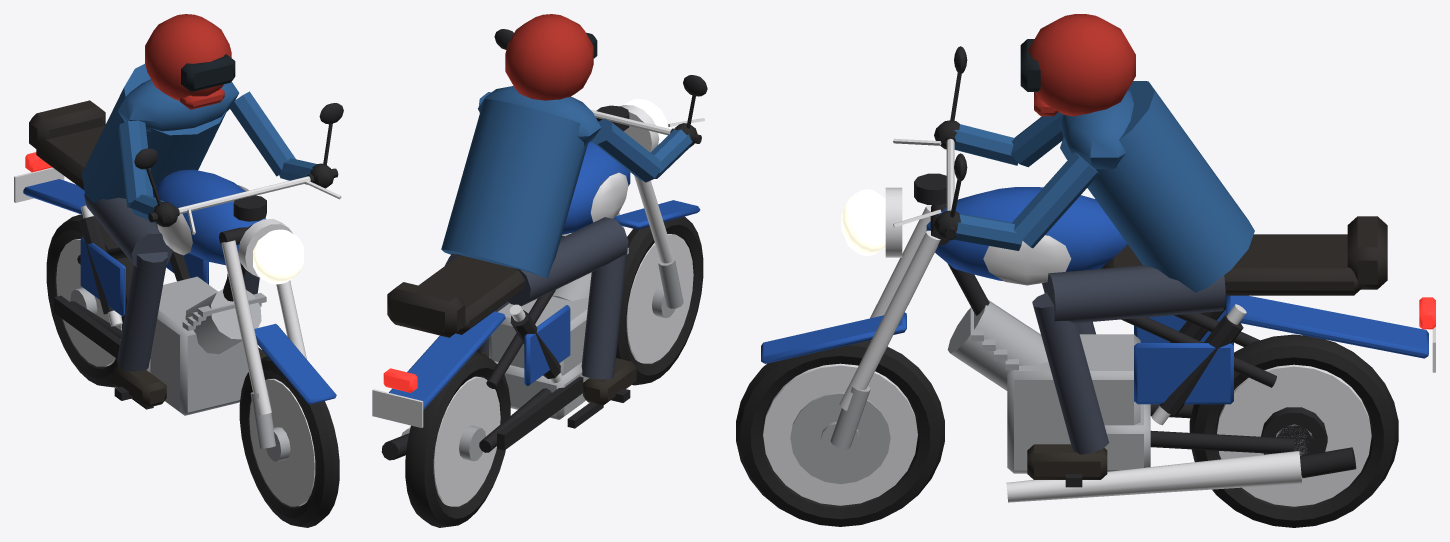
The model's file is motorcycle.glb.
3 renders of one model, left to right at view 1: azimuth 30°, elevation 25°; view 2: azimuth 150°, elevation 25°; view 3: azimuth 270°, elevation 25°, orthographic. The views are drawn at different scales.
Parts seen in each view (by area): view 1: body.004, rider_torso, fork, wheel_front, rider_legs, rider_head, wheel_rear; view 2: body.004, rider_torso, wheel_rear, rider_legs, wheel_front, fork, rider_head; view 3: body.004, rider_torso, wheel_front, wheel_rear, rider_legs, fork, rider_head.
Boxes of the visible parts, x1=… form: body.004: x1=14, y1=100, x2=266, y2=415; rider_torso: x1=82, y1=64, x2=333, y2=227; fork: x1=134, y1=103, x2=343, y2=448; wheel_front: x1=239, y1=356, x2=339, y2=527; rider_legs: x1=84, y1=194, x2=266, y2=407; rider_head: x1=145, y1=14, x2=235, y2=109; wheel_rear: x1=46, y1=214, x2=133, y2=387; body.004: x1=372, y1=141, x2=630, y2=460; rider_torso: x1=441, y1=86, x2=697, y2=278; wheel_rear: x1=405, y1=352, x2=510, y2=527; rider_legs: x1=445, y1=217, x2=636, y2=405; wheel_front: x1=616, y1=216, x2=703, y2=385; fork: x1=494, y1=29, x2=707, y2=308; rider_head: x1=505, y1=14, x2=597, y2=100; body.004: x1=926, y1=187, x2=1435, y2=502; rider_torso: x1=934, y1=81, x2=1254, y2=292; wheel_front: x1=736, y1=340, x2=944, y2=526; wheel_rear: x1=1189, y1=334, x2=1398, y2=527; rider_legs: x1=1027, y1=265, x2=1225, y2=479; fork: x1=761, y1=46, x2=967, y2=448; rider_head: x1=1020, y1=14, x2=1135, y2=116.
Size of the model in its own units: 0.86 by 1.68 by 2.1.
